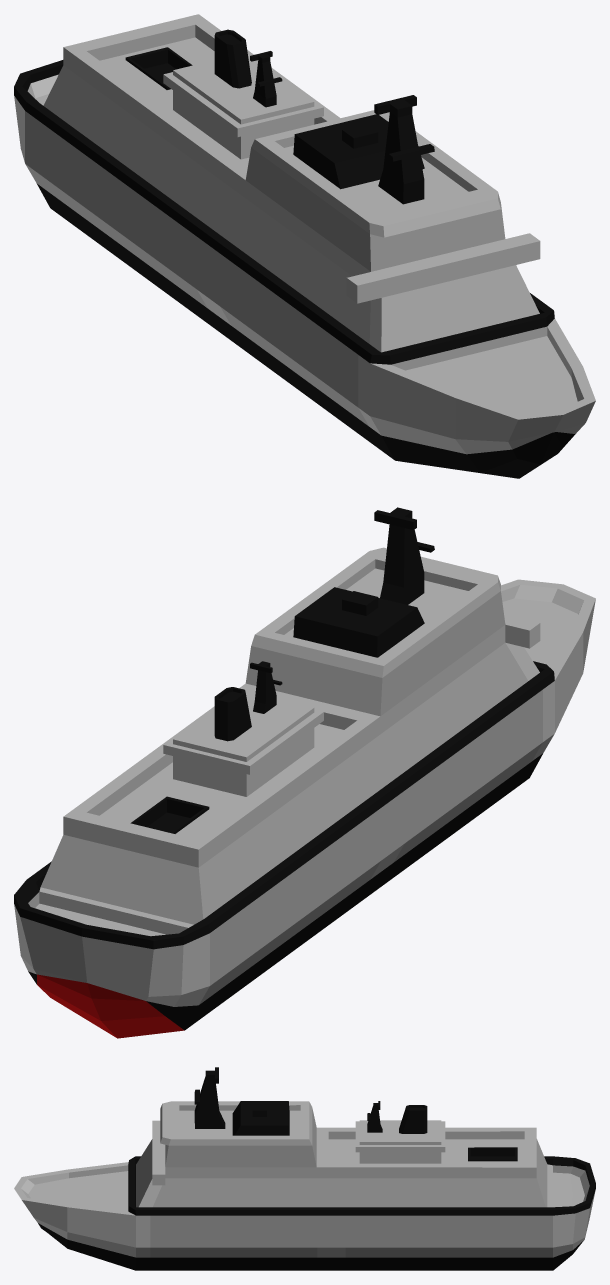
Rendered from cruiseShip.glb.
3 views of the same model, one above another, from view 1: azimuth 30°, elevation 25°; view 2: azimuth 150°, elevation 25°; view 3: azimuth 270°, elevation 25° (orthographic). The views are drawn at different scales.
Visible parts, largest first — view 1: Asset3DLoader.sceneRoot; view 2: Asset3DLoader.sceneRoot; view 3: Asset3DLoader.sceneRoot.
Boxes of the visible parts, left/top/right/bottom form: Asset3DLoader.sceneRoot: left=14, top=14, right=595, bottom=478; Asset3DLoader.sceneRoot: left=14, top=507, right=595, bottom=1038; Asset3DLoader.sceneRoot: left=14, top=1067, right=595, bottom=1270.
Bounding box in the file's own units: 4 × 6.6 × 18.05.
